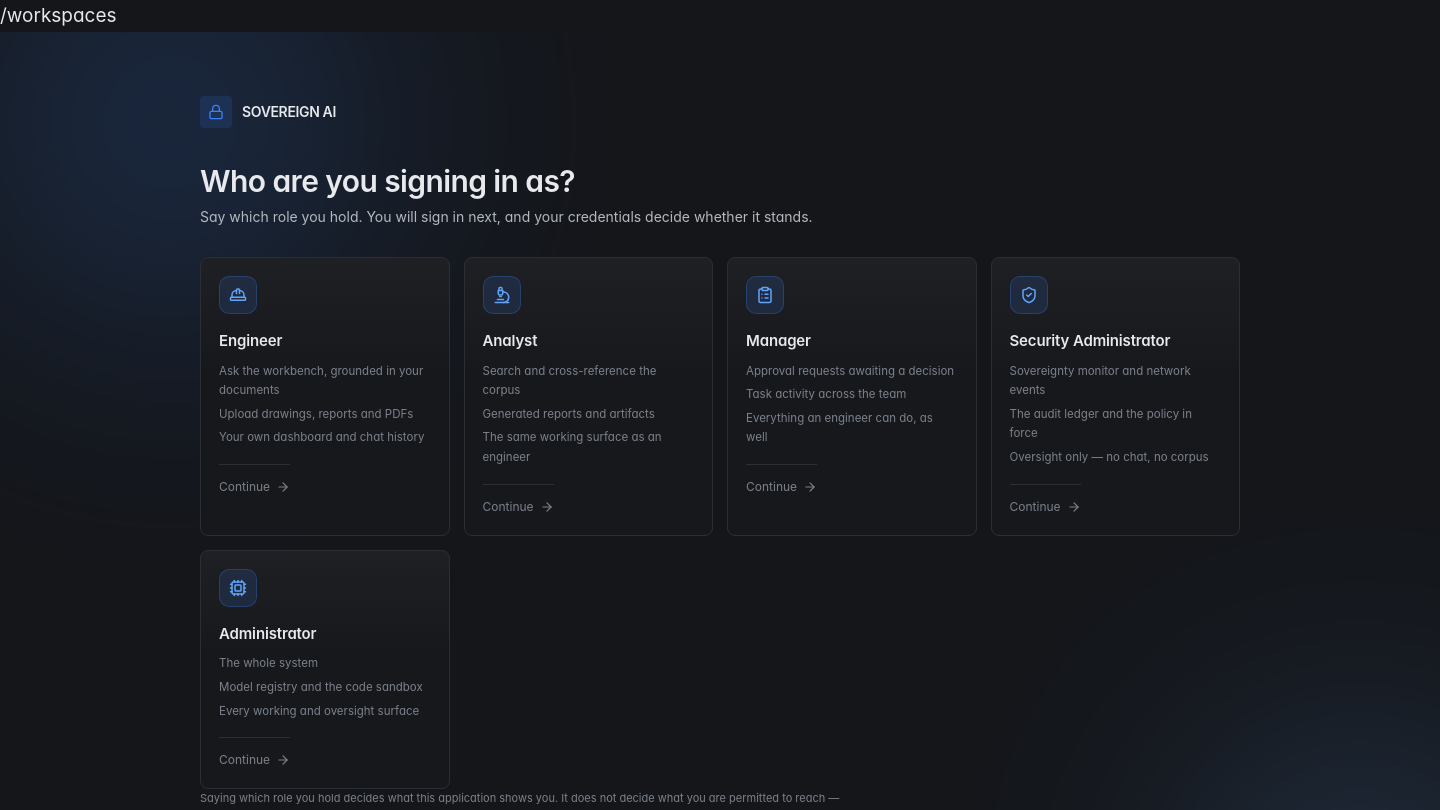
Test: signing in as a role › carries the stated role to sign-in, and names it there
Click the button with aria-label "Sign in as Engineer": (325, 397) [200,257,450,536]
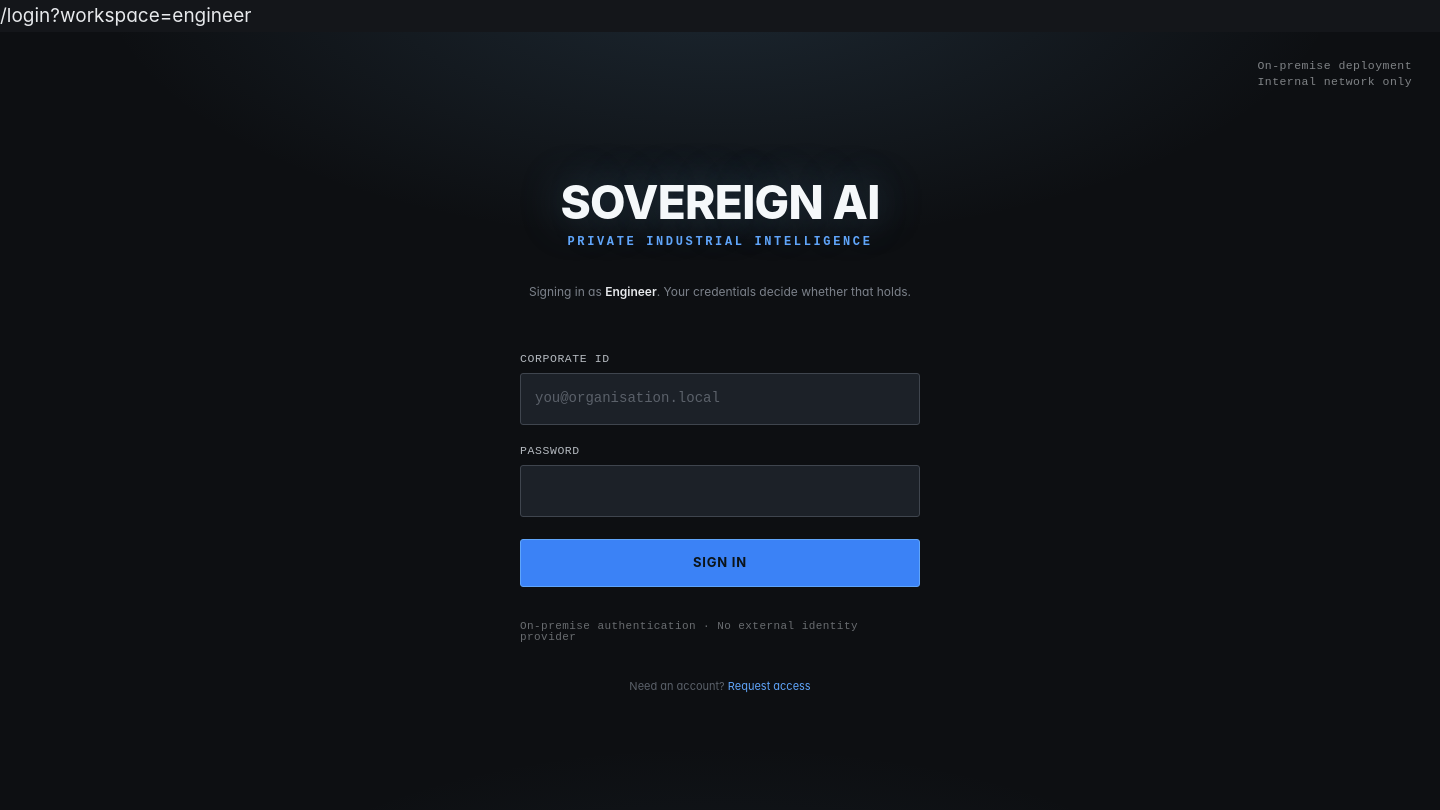
Check: the text "Engineer" is shown, box [605,284,657,299]
Check: the text with test id "where" reads "/login?workspace=engineer", box [0,4,251,27]
Check: the text "Signing in as" is shown, box [529,284,602,299]
